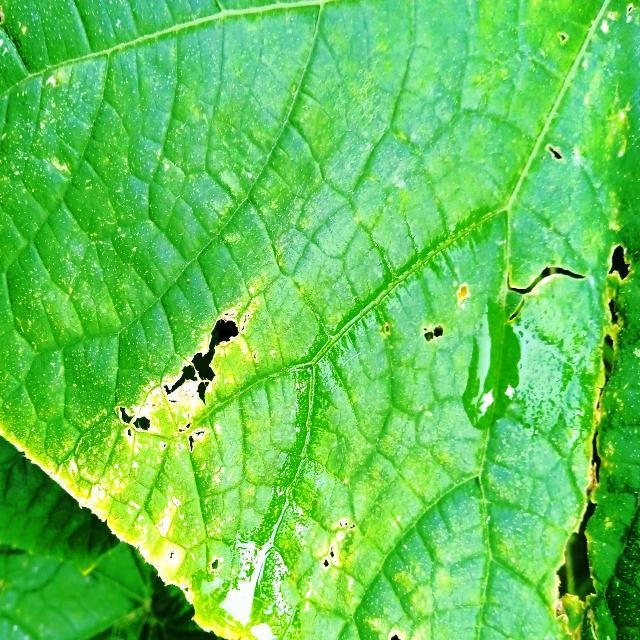Anthracnose: (114, 302, 245, 459), (602, 237, 638, 291)
